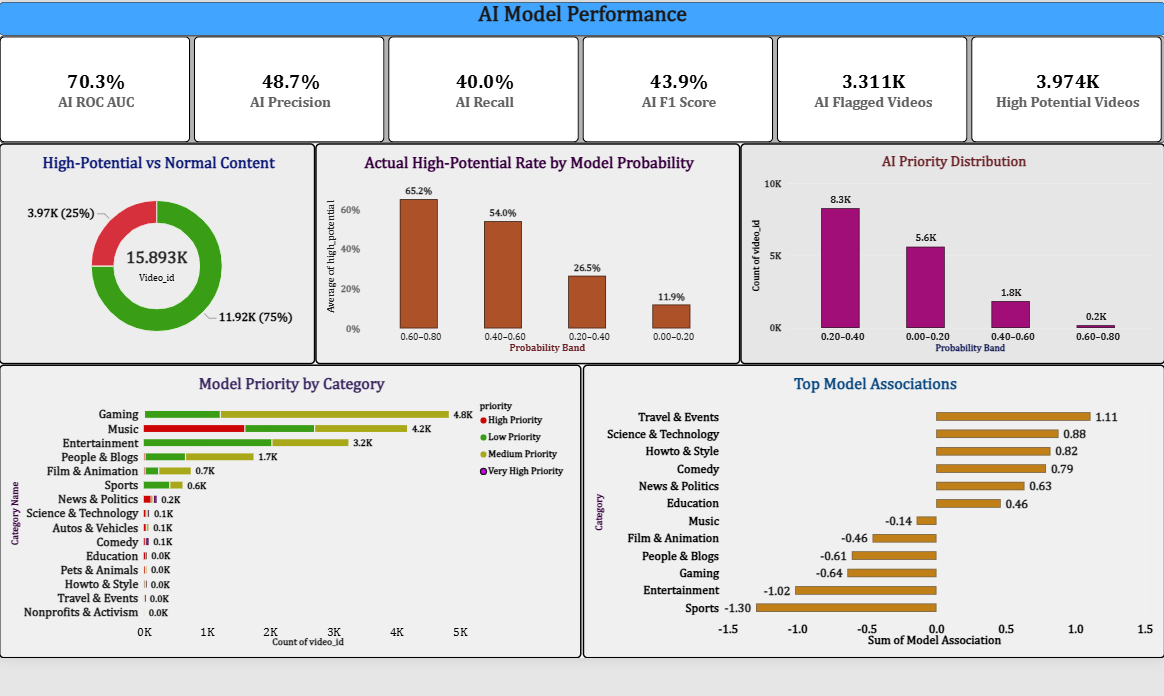

Layout of this report page (visuals, bound fields, positions):
{"tool":"powerbi","page":{"name":"Page 4","canvas":[1920,1080],"ordinal":3},"visuals":[{"type":"textbox","title":"AI Model Performance","box":[0,0,1920.4,55.6],"z":0},{"type":"cardVisual","fields":{"Data":["final_ai_scored_videos.AI ROC AUC","final_ai_scored_videos.AI Precision","final_ai_scored_videos.AI Recall","final_ai_scored_videos.AI F1 Score","final_ai_scored_videos.AI Flagged Videos","final_ai_scored_videos.High Potential Videos"]},"box":[0,55.6,1920.4,177],"z":1},{"type":"clusteredColumnChart","title":"Actual High-Potential Rate by Model Probability","fields":{"Category":["final_ai_scored_videos.Probability Band"],"Y":["Avg(final_ai_scored_videos.high_potential)"]},"box":[520.8,232.6,699.8,364.3],"z":2},{"type":"donutChart","title":"High-Potential vs Normal Content","fields":{"Category":["final_ai_scored_videos.Potential Status"],"Y":["CountNonNull(final_ai_scored_videos.video_id)"]},"box":[0,232.6,520.8,364.3],"z":3},{"type":"barChart","title":"Model Priority by Category","fields":{"Category":["final_ai_scored_videos.Category Name"],"Series":["final_ai_scored_videos.priority"],"Y":["CountNonNull(final_ai_scored_videos.video_id)"]},"box":[0,596.9,959.2,483.7],"z":4},{"type":"clusteredBarChart","title":"Top Model Associations","fields":{"Category":["AI_Model_Associations.Category"],"Y":["Sum(AI_Model_Associations.Model Association)"]},"box":[961.2,596.9,959.2,483.7],"z":5},{"type":"clusteredColumnChart","title":"AI Priority Distribution","fields":{"Category":["final_ai_scored_videos.Probability Band"],"Y":["CountNonNull(final_ai_scored_videos.video_id)"]},"box":[1220.6,232.6,699.8,364.3],"z":6}]}

Visuals, with their boxes on the page's 1920x1080 design canvas (x1, y1, x2, y2). These are canvas units, not pixel positions in the 1164x696 screenshot, which may show the page scaled, cropped or inside an application window:
"AI Model Performance" textbox: [0, 0, 1920, 56]
cardVisual - final_ai_scored_videos.AI ROC AUC x final_ai_scored_videos.AI Precision: [0, 56, 1920, 233]
"Actual High-Potential Rate by Model Probability" clusteredColumnChart: [521, 233, 1221, 597]
"High-Potential vs Normal Content" donutChart: [0, 233, 521, 597]
"Model Priority by Category" barChart: [0, 597, 959, 1081]
"Top Model Associations" clusteredBarChart: [961, 597, 1920, 1081]
"AI Priority Distribution" clusteredColumnChart: [1221, 233, 1920, 597]
